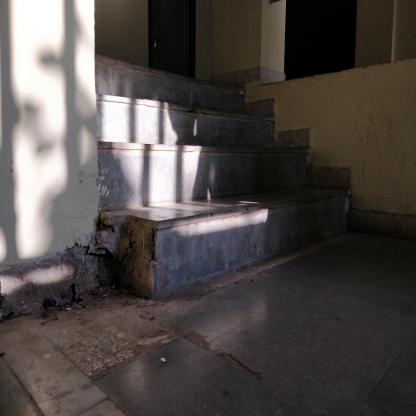stairs: (159, 79, 241, 297)
